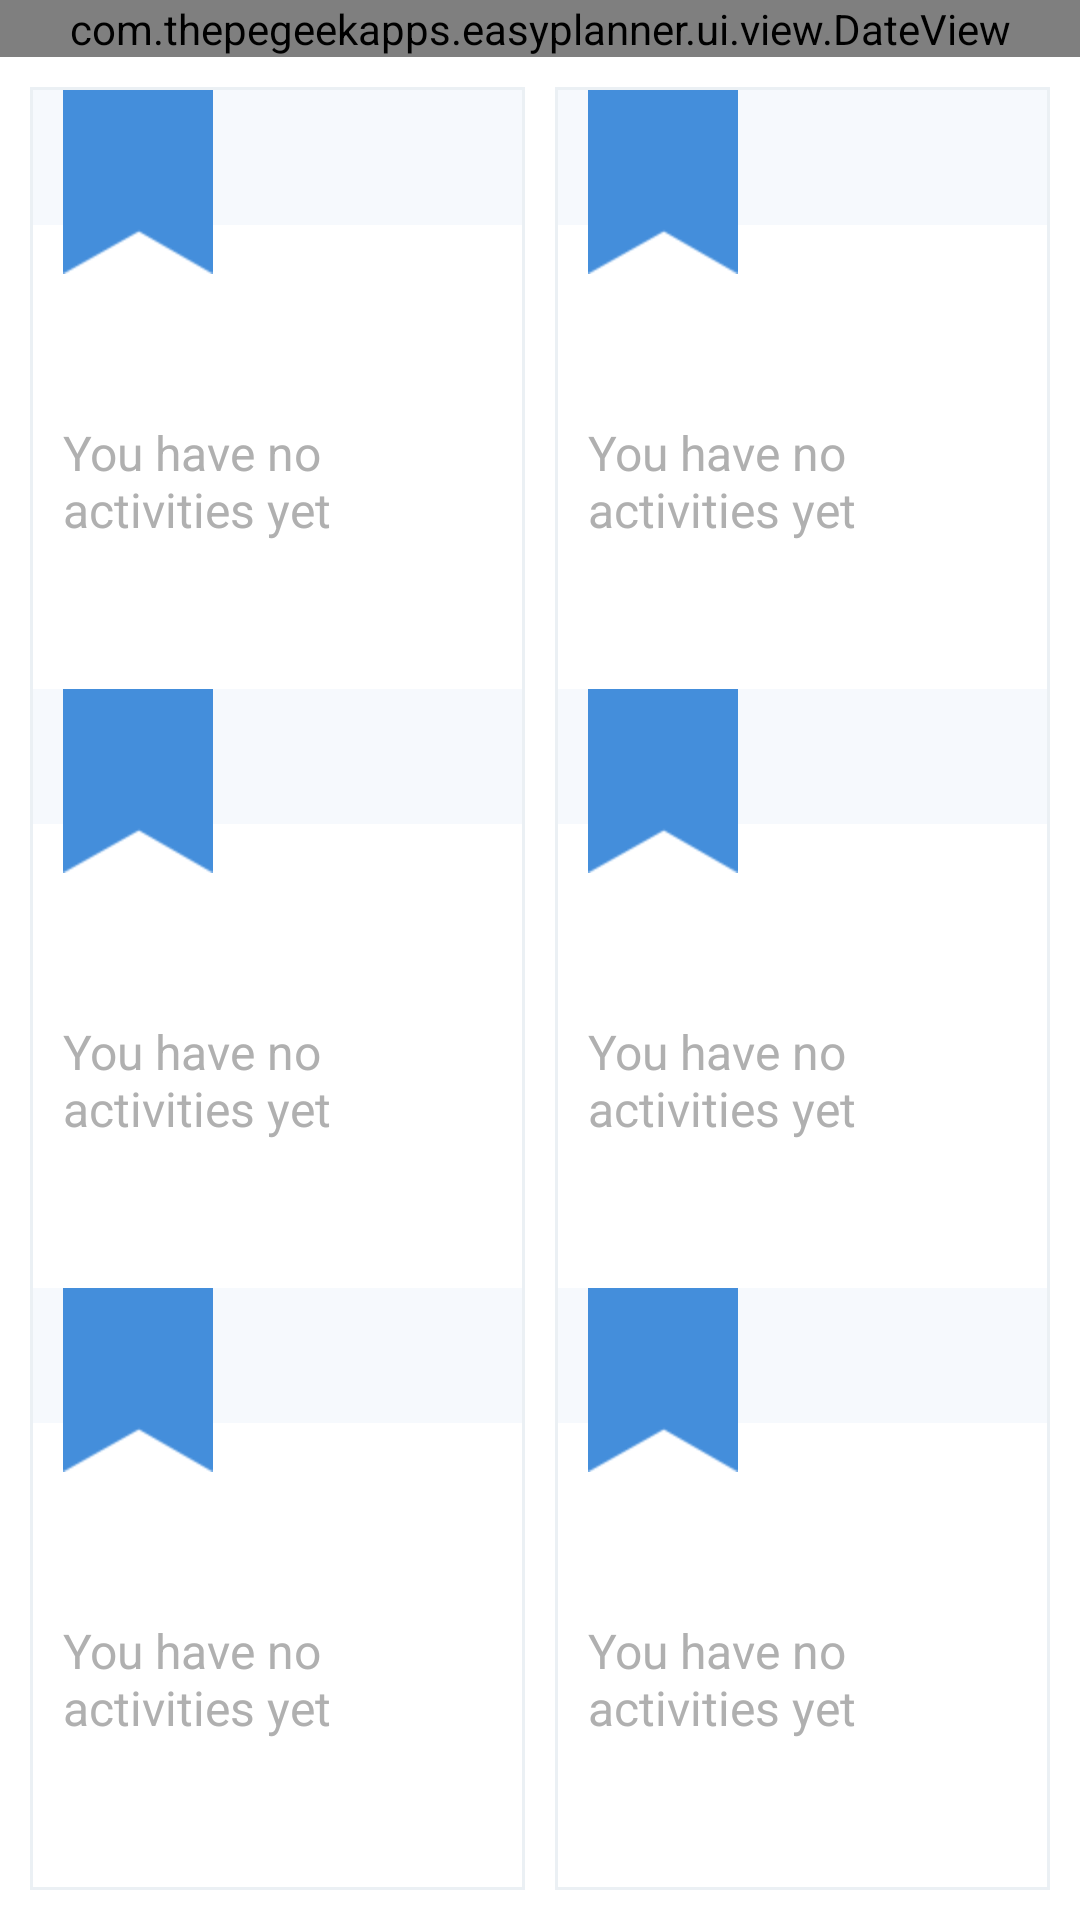

Named icons in this screenshot (1080*1920) and their centers, [x,y]:
today marker: [138,182], [663,182], [138,781], [663,781], [138,1380], [663,1380]
